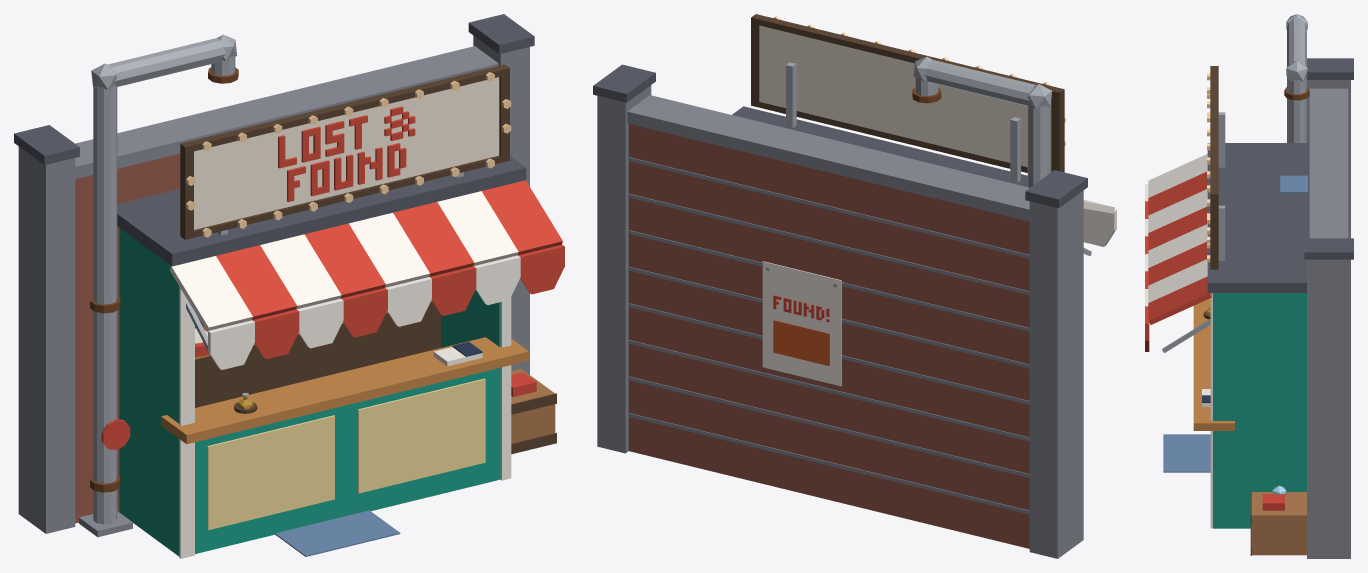
Rendered from CatCafe_Camp_Sewer_LostFoundBooth.glb.
3 renders of one model, left to right at view 1: azimuth 30°, elevation 25°; view 2: azimuth 150°, elevation 25°; view 3: azimuth 270°, elevation 25°, orthographic. The views are drawn at different scales.
Visible parts, largest first — view 1: CatCafe_Camp_Sewer_LostFoundBooth, CatCafe_Camp_Sewer_LostFoundBooth_Bulb; view 2: CatCafe_Camp_Sewer_LostFoundBooth; view 3: CatCafe_Camp_Sewer_LostFoundBooth, CatCafe_Camp_Sewer_LostFoundBooth_Bulb.
Boxes of the visible parts, x1=… form: CatCafe_Camp_Sewer_LostFoundBooth: x1=14, y1=14, x2=564, y2=558; CatCafe_Camp_Sewer_LostFoundBooth_Bulb: x1=186, y1=72, x2=511, y2=237; CatCafe_Camp_Sewer_LostFoundBooth: x1=593, y1=14, x2=1116, y2=558; CatCafe_Camp_Sewer_LostFoundBooth: x1=1145, y1=14, x2=1353, y2=558; CatCafe_Camp_Sewer_LostFoundBooth_Bulb: x1=1207, y1=73, x2=1210, y2=262.
Size of the model in its own units: 8.3 by 7.48 by 3.78.
Materials: 1 (1 with a texture image).
